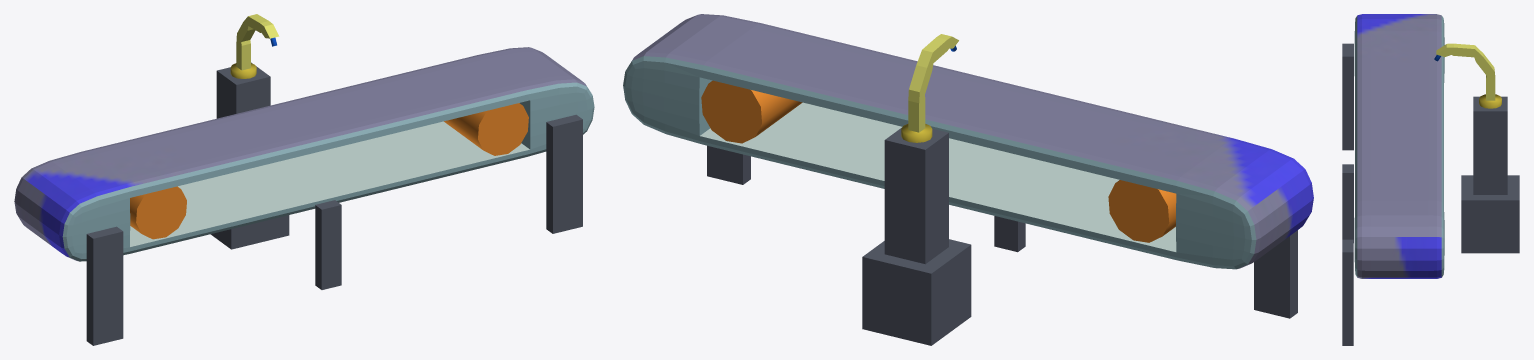
File: conveyor belt whole.fbx
3 views of the same model, side by side, from view 1: azimuth 30°, elevation 25°; view 2: azimuth 150°, elevation 25°; view 3: azimuth 270°, elevation 25° (orthographic). The views are drawn at different scales.
Parts seen in each view (by area): view 1: Cube.038, Cube.037, Cube.030, Cube.034, Cylinder.006, Cylinder, Cube.032; view 2: Cube.038, Cube.037, Cylinder.006, Cylinder, Cube.030, Cube.034, Cube.032; view 3: Cube.038, Cube.037, Cube.030, Cube.034, Cube.032.
Part boxes in pixels (x1,y1,x2,y2): Cube.038: [14, 47, 594, 261]; Cube.037: [210, 14, 289, 249]; Cube.030: [86, 226, 123, 345]; Cube.034: [546, 114, 582, 233]; Cylinder.006: [444, 103, 528, 155]; Cylinder: [130, 186, 186, 239]; Cube.032: [315, 200, 341, 289]; Cube.038: [623, 14, 1313, 269]; Cube.037: [862, 34, 971, 345]; Cylinder.006: [701, 80, 802, 143]; Cylinder: [1108, 180, 1176, 242]; Cube.030: [1254, 230, 1297, 318]; Cube.034: [707, 145, 750, 184]; Cube.032: [994, 216, 1025, 252]; Cube.038: [1354, 14, 1444, 278]; Cube.037: [1434, 43, 1519, 253]; Cube.030: [1342, 43, 1353, 150]; Cube.034: [1342, 239, 1353, 345]; Cube.032: [1342, 164, 1353, 242].
Bounding box in the file's own units: 2653 × 1061 × 875.
